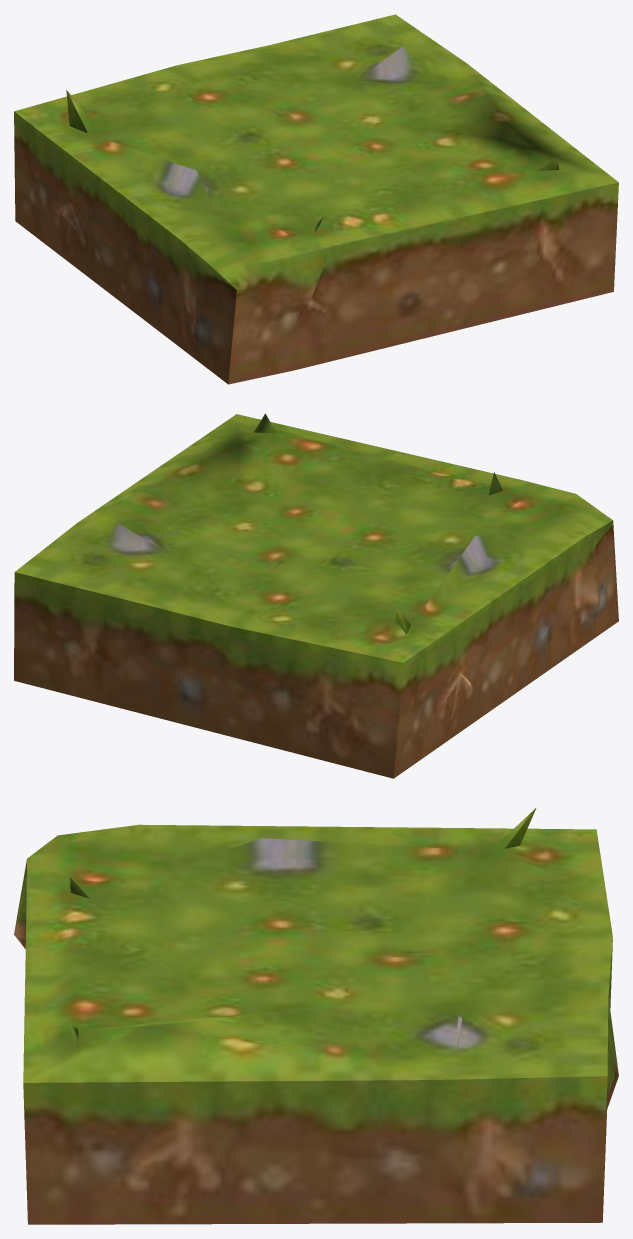
File: b_racines_sol_2_lo.glb
The picture shows the model from 3 angles, top to bottom: view 1: azimuth 30°, elevation 25°; view 2: azimuth 150°, elevation 25°; view 3: azimuth 270°, elevation 25°; orthographic projection. The views are drawn at different scales.
Visible parts, largest first — view 1: geometry_0; view 2: geometry_0; view 3: geometry_0.
Part boxes in pixels (box(x1,y1,x2,y2)): geometry_0: box(14, 14, 618, 384); geometry_0: box(14, 413, 618, 778); geometry_0: box(14, 808, 618, 1224).
Size of the model in its own units: 1 by 0.3522 by 0.9938.
1 material, 1 textured.
